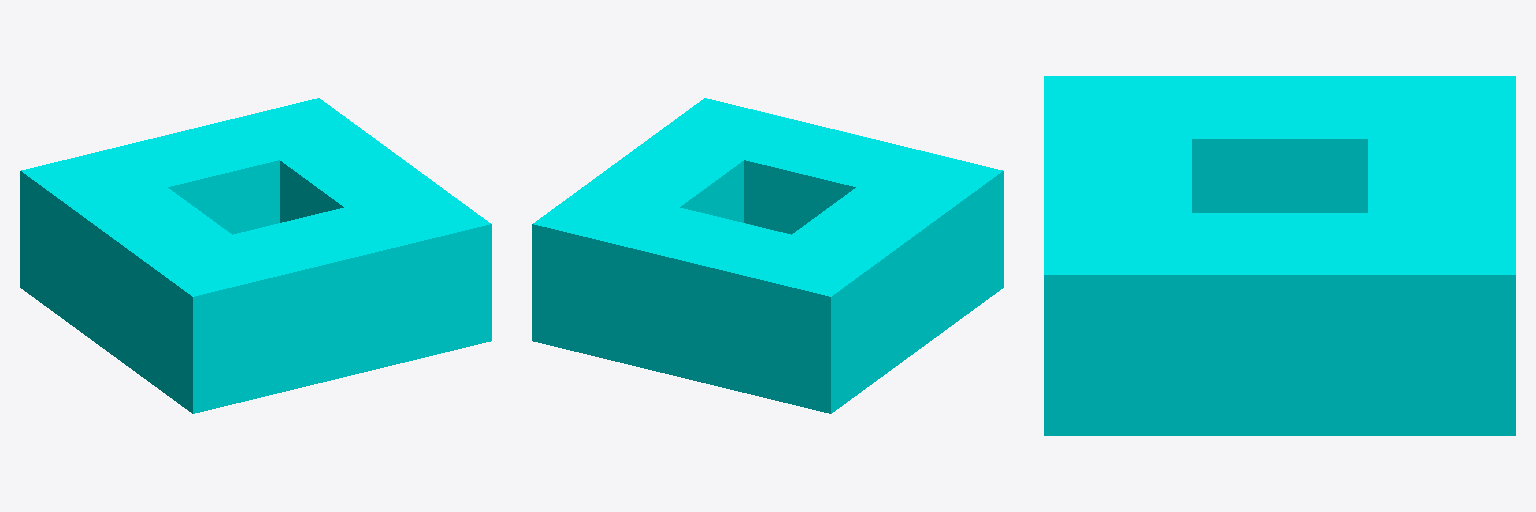
The robot description file, URDF, robot "robot":
<?xml version="0.0" ?>
<robot name="">
	<link name="1in rectangular block_C.SLDPRT">
		<inertial>
			<origin rpy="0.00000 -0.00000 0.00000" xyz="0.00000 0.00000 0.03810"/>
			<mass value="0.04916"/>
			<inertia ixx="0.00003" ixy="0" ixz="0" iyy="0.00003" iyz="0" izz="0.00001"/>
		</inertial>
		<visual>
			<origin rpy="1.57080 -0.00000 0.00000" xyz="0.00000 0.00000 0.00000"/>
			<geometry>
				<mesh filename="./1in rectangular block_C.SLDPRT/meshes/1in rectangular block_C.SLDPRT.STL" scale="1.00000 1.00000 1.00000"/>
			</geometry>
			<material name="mat_-1_0">
				<color rgba="1.00000 0.00000 0.00000 1.00000" />
			</material>
		</visual>
		<collision>
			<origin rpy="1.57080 -0.00000 0.00000" xyz="0.00000 0.00000 0.00000"/>
			<geometry>
				<mesh filename="./1in rectangular block_C.SLDPRT/meshes/1in rectangular block_C.SLDPRT.STL" scale="1.00000 1.00000 1.00000"/>
			</geometry>
		</collision>
	</link>
	<link name="1.5in squarehole_C.SLDPRT">
		<inertial>
			<origin rpy="0.00000 -0.00000 0.00000" xyz="0.00000 0.00000 0.01905"/>
			<mass value="0.33798"/>
			<inertia ixx="0.00038" ixy="0" ixz="0" iyy="0.00038" iyz="0" izz="0.00065"/>
		</inertial>
		<visual>
			<origin rpy="1.57080 -0.00000 0.00000" xyz="0.00000 0.00000 0.00000"/>
			<geometry>
				<mesh filename="./1.5in squarehole_C.SLDPRT/meshes/1.5in squarehole_C.SLDPRT.STL" scale="1.00000 1.00000 1.00000"/>
			</geometry>
			<material name="mat_-1_0">
				<color rgba="0.00000 1.00000 1.00000 1.00000" />
			</material>
		</visual>
		<collision>
			<origin rpy="1.57080 -0.00000 0.00000" xyz="0.00000 0.00000 0.00000"/>
			<geometry>
				<mesh filename="./1.5in squarehole_C.SLDPRT/meshes/1.5in squarehole_C.SLDPRT.STL" scale="1.00000 1.00000 1.00000"/>
			</geometry>
		</collision>
	</link>
	<joint name="joint_dummy1" type="fixed">
		<parent link="1in rectangular block_C.SLDPRT"/>
		<child link="1.5in squarehole_C.SLDPRT"/>
		<dynamics damping="1.0" friction="0.0001"/>
		<origin rpy="0.00000 0.00000 0.00000" xyz="0.00000 0.00000 0.00000"/>
		<axis xyz="0.00000 0.00000 1.00000"/>
	</joint>
</robot>

--- What the picture shows (computed from the rendered views, not written in the file) ---
The picture shows the robot from 3 angles, left to right: view 1: azimuth 30°, elevation 25°; view 2: azimuth 150°, elevation 25°; view 3: azimuth 270°, elevation 25°; orthographic projection.
Robot: robot — 2 links, 1 joints (1 fixed); root link 1in rectangular block_C.SLDPRT; default pose: all joints at 0.
Visible links, largest first — view 1: 1.5in squarehole_C.SLDPRT; view 2: 1.5in squarehole_C.SLDPRT; view 3: 1.5in squarehole_C.SLDPRT.
Boxes of the visible links, x1,y1,x2,y2 form: 1.5in squarehole_C.SLDPRT: (20, 98, 491, 413); 1.5in squarehole_C.SLDPRT: (532, 98, 1003, 413); 1.5in squarehole_C.SLDPRT: (1044, 76, 1515, 435).
Bounding box of the posed robot: 0.1016 × 0.1016 × 0.0381 m (x, y, z).
1 mesh visuals loaded from 2 distinct referenced files (1 binary STL); not drawn: 1 (reference not matched to a file when rendering).
